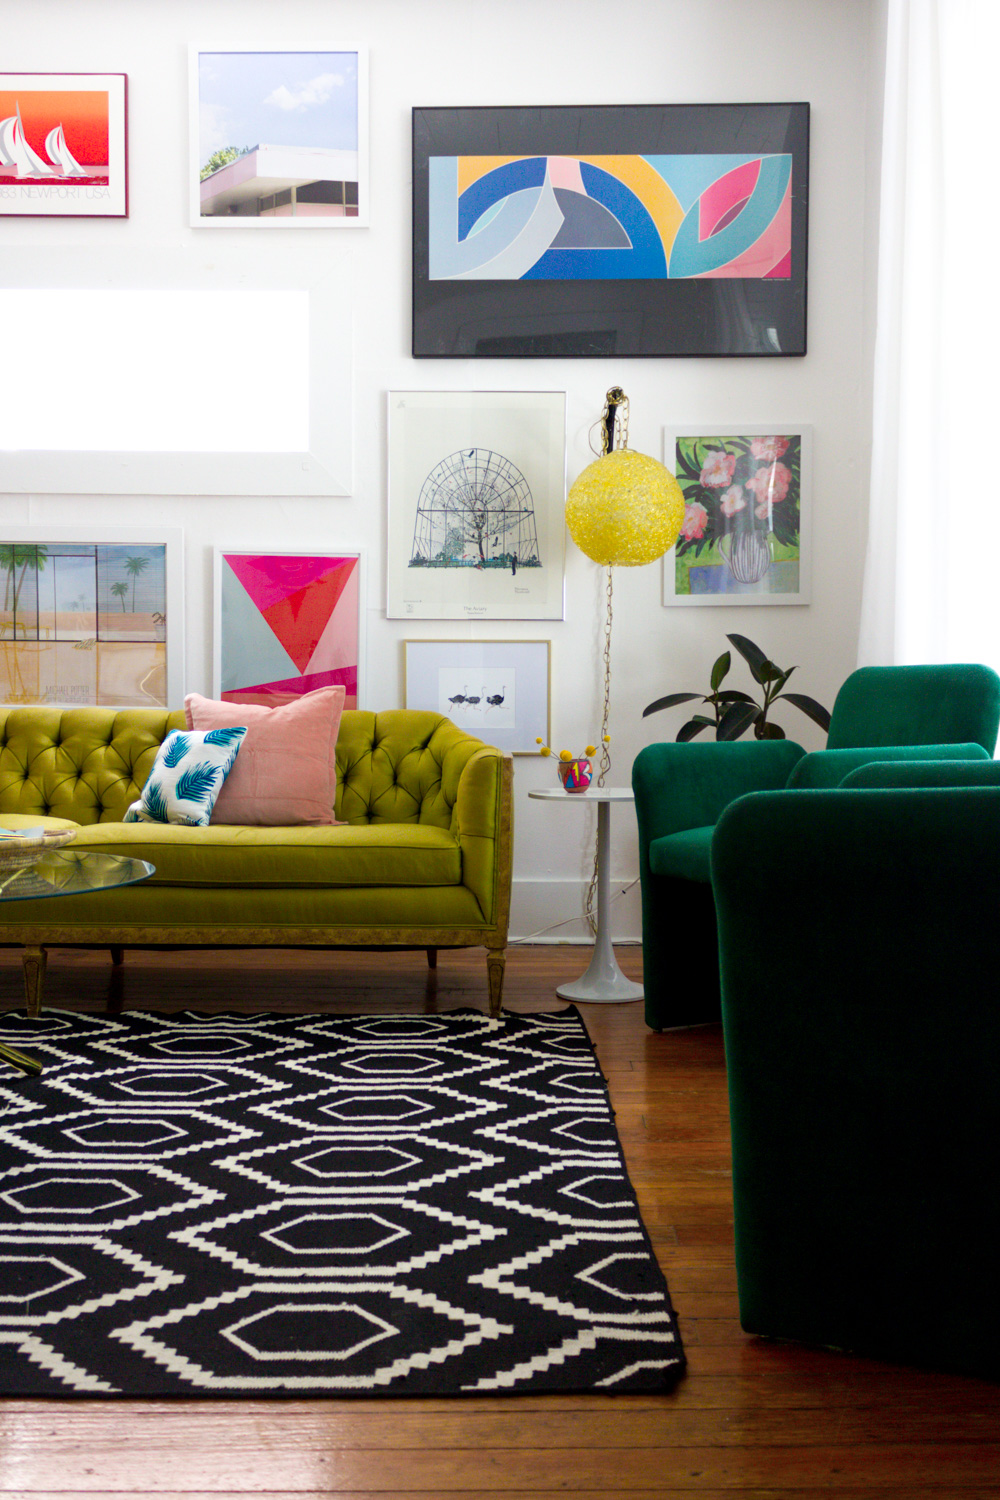hijau: (669, 662, 981, 812)
hitam: (742, 805, 1000, 1300)
kuning: (569, 462, 685, 568)
pink: (235, 699, 345, 821)
